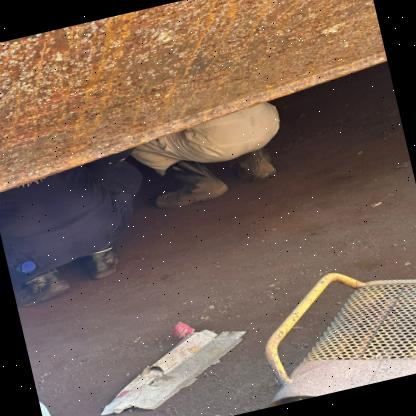bota: (141, 150, 236, 216), (223, 143, 288, 191), (11, 266, 74, 310), (81, 242, 131, 283)
